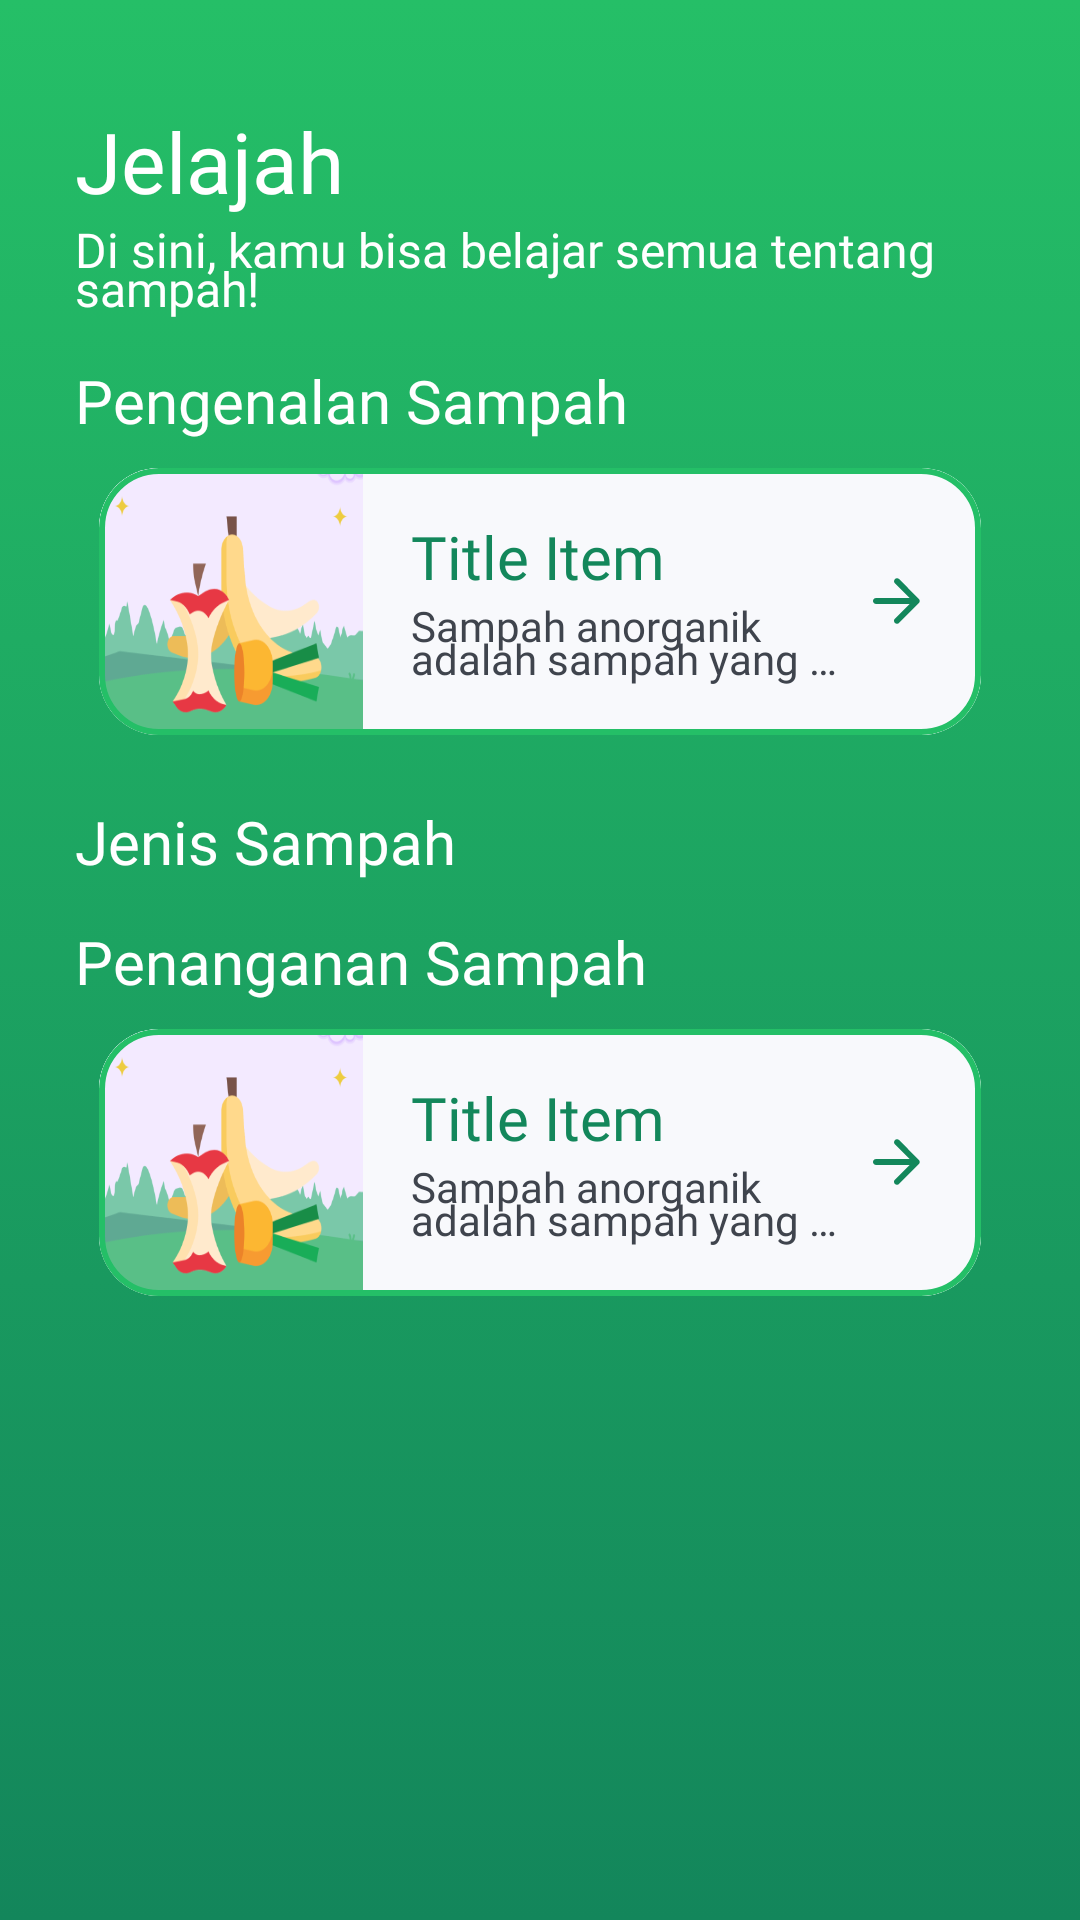

Icon click points for this 1080*1920 phone screenshot, format (x=x, y=y):
arrow forward: (x=896, y=601), (x=896, y=1162)
